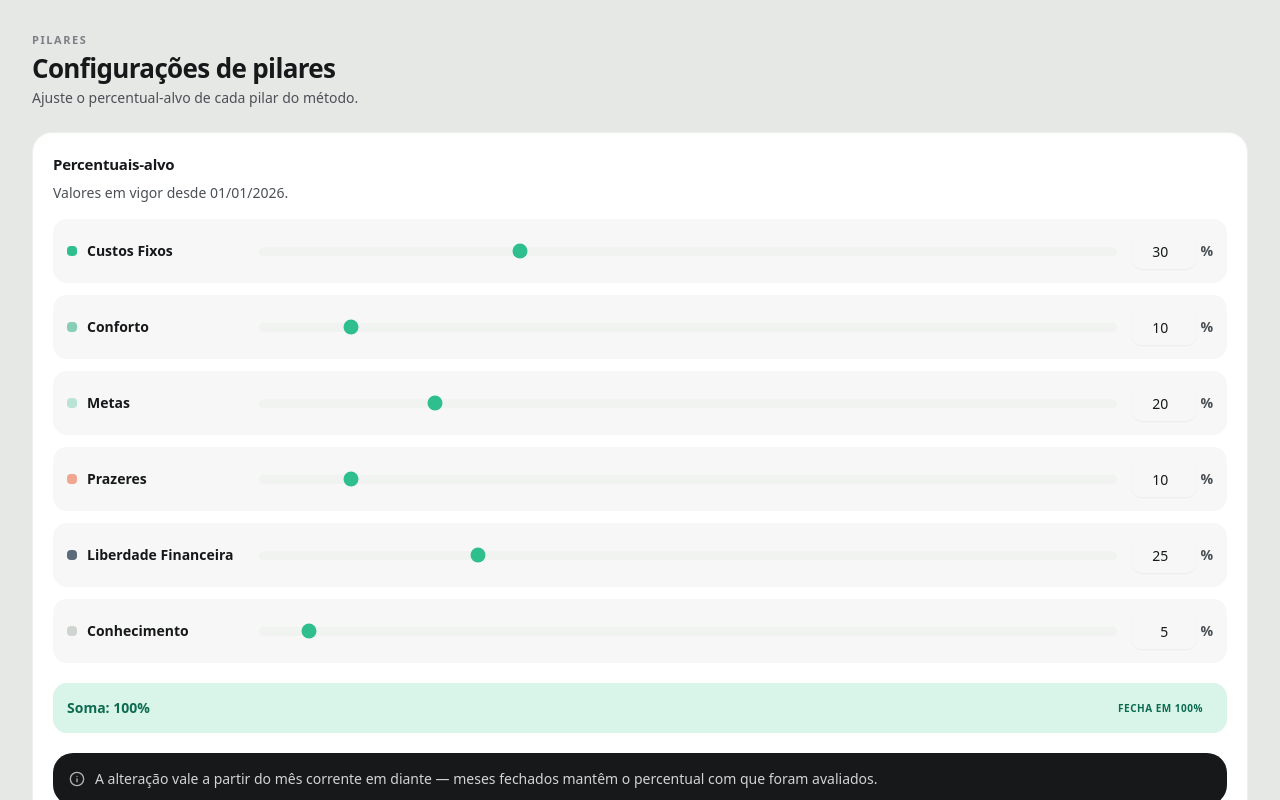
Test: PillarSettingsPage › blocks saving and explains why when the sum is not 100
Replace the text in the number field named "Conforto" in the row of "Conforto" with "15" at (1164, 327), box [1132,309,1196,345]
(page scrolled)
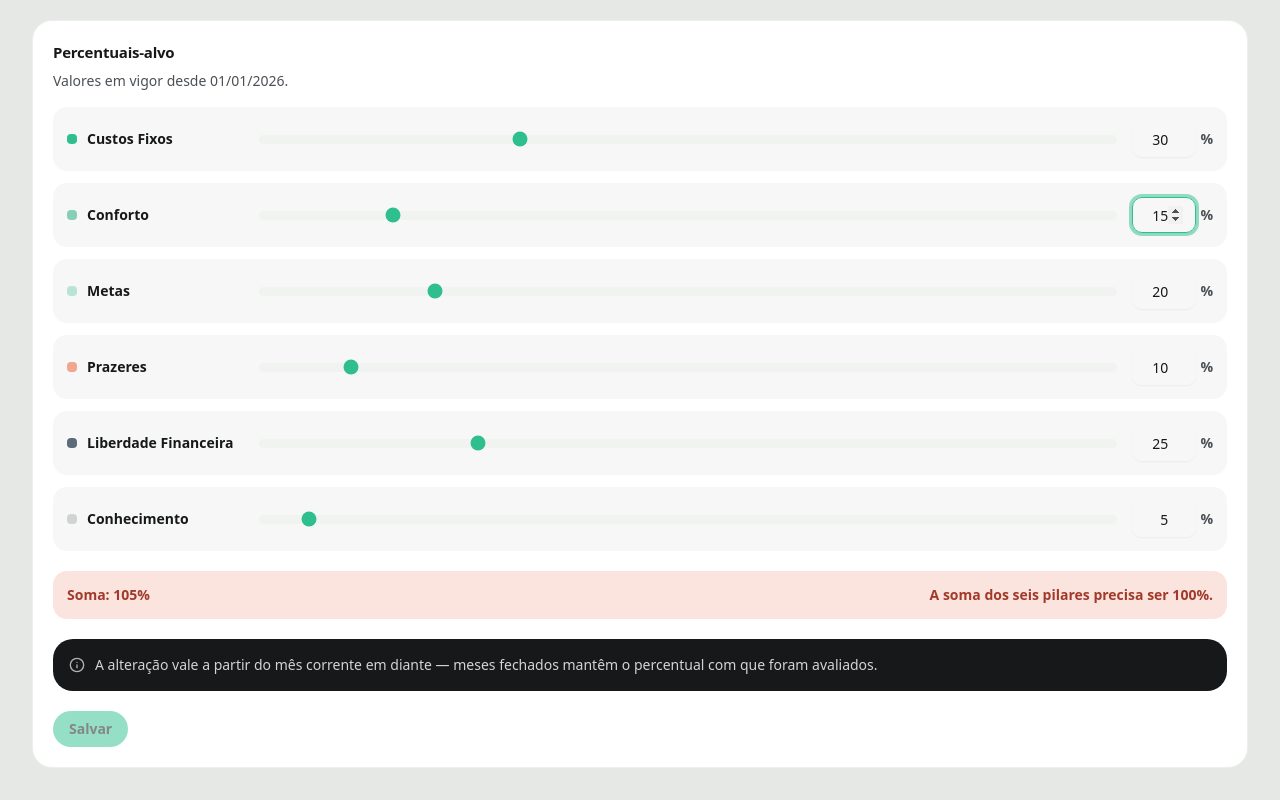
expect the text "A soma dos seis pilares precisa ser 100%." is shown: met, box [930,585,1213,605]
expect the button "Salvar" is disabled: met, box [53,711,128,747]
expect the text "Soma: 105%" is shown: met, box [67,585,150,605]
